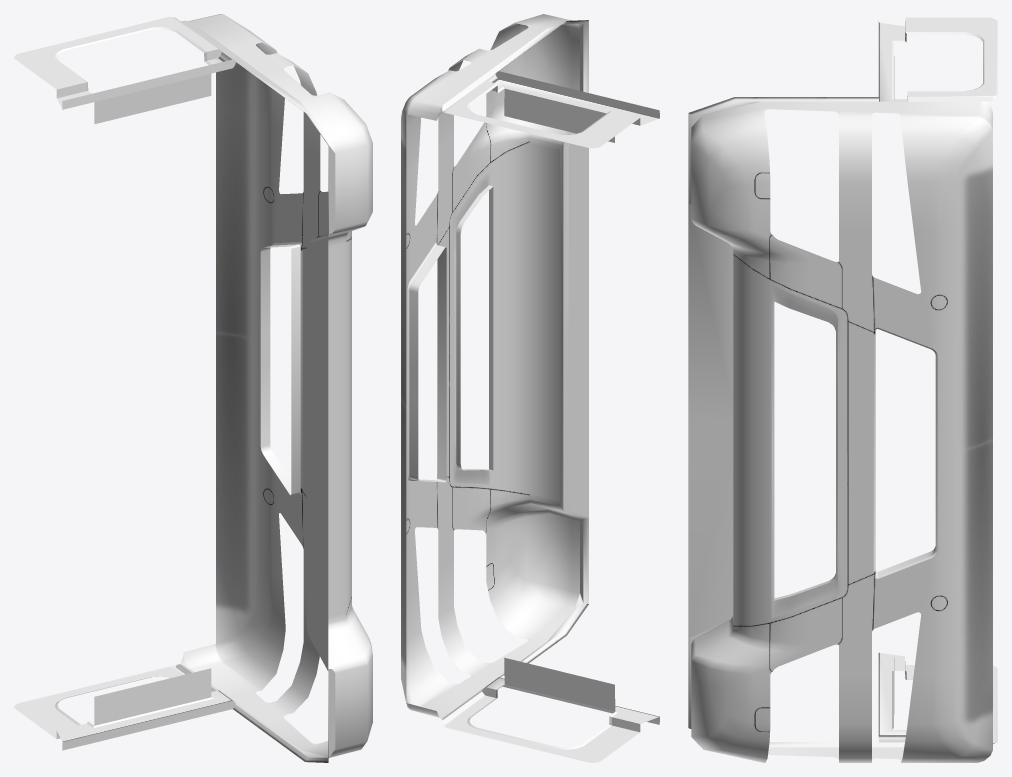
Rendered from bumper.obj.
3 views of the same model, side by side, from view 1: azimuth 30°, elevation 25°; view 2: azimuth 150°, elevation 25°; view 3: azimuth 270°, elevation 25° (orthographic). The views are drawn at different scales.
Visible parts, largest first — view 1: Cab; view 2: Cab; view 3: Cab.
Boxes of the visible parts, box(x1,y1,x2,y2) form: Cab: box(14, 14, 372, 762); Cab: box(401, 14, 659, 762); Cab: box(688, 17, 997, 762).
Size of the model in its own units: 0.9347 by 2.44 by 1.06.
Materials: 1 (1 with a texture image).
